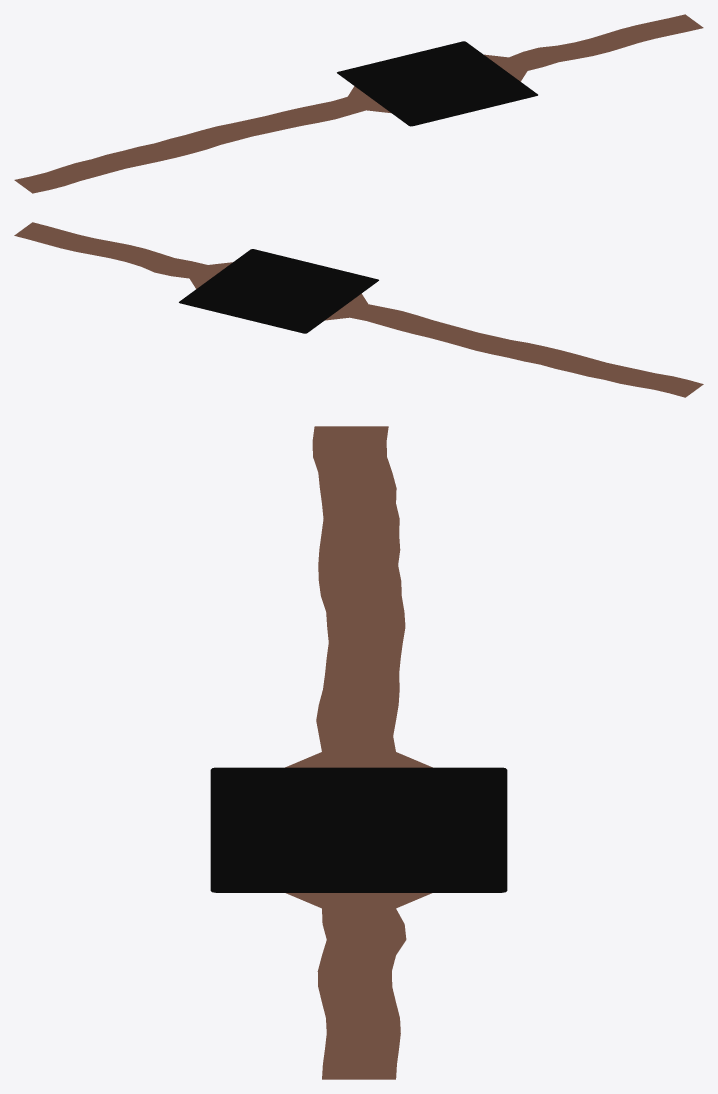
Rendered from ground_road.fbx.
3 renders of one model, top to bottom at view 1: azimuth 30°, elevation 25°; view 2: azimuth 150°, elevation 25°; view 3: azimuth 270°, elevation 25°, orthographic. The views are drawn at different scales.
Parts seen in each view (by area): view 1: ground_road; view 2: ground_road; view 3: ground_road.
Part boxes in pixels (x1=…): ground_road: x1=14, y1=14, x2=703, y2=193; ground_road: x1=14, y1=222, x2=703, y2=397; ground_road: x1=210, y1=426, x2=507, y2=1079.
Bounding box in the file's own units: 1902 × 0.1068 × 365.
